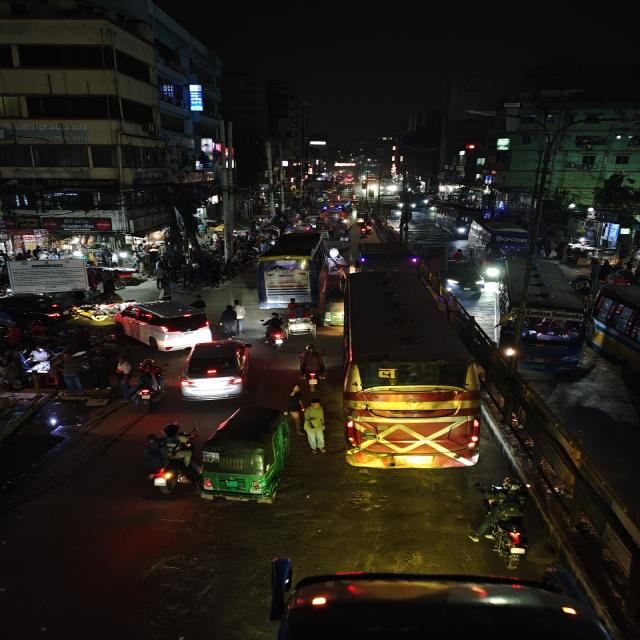bus: (340, 268, 480, 476), (496, 294, 586, 378), (254, 231, 334, 311), (465, 218, 533, 280)
car: (178, 338, 256, 402), (118, 300, 214, 350), (443, 255, 485, 295)
cng: (199, 403, 296, 508)
motorcycle: (479, 493, 537, 565), (140, 436, 196, 496), (131, 360, 165, 408), (298, 344, 326, 390), (260, 313, 292, 352), (187, 295, 210, 313), (357, 221, 375, 237)
pedestrian: (299, 397, 329, 453), (54, 363, 86, 395), (219, 302, 244, 337), (229, 298, 248, 334), (112, 354, 134, 385), (155, 276, 176, 302)
rickshaw: (282, 300, 317, 336), (567, 274, 593, 294)
